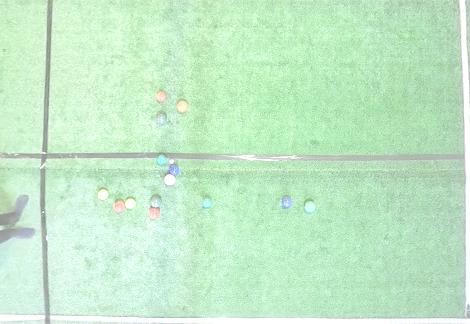blue: (281, 197, 293, 208), (170, 165, 179, 175)
green: (150, 195, 162, 207), (305, 201, 316, 213), (156, 113, 167, 124), (156, 155, 167, 165), (202, 197, 212, 208)
red: (113, 200, 125, 213), (176, 100, 188, 113), (148, 207, 160, 219), (163, 174, 176, 185), (156, 91, 167, 102)
vline: (1, 0, 53, 323), (456, 0, 469, 324)
white: (169, 159, 174, 164)
yellow: (124, 197, 136, 210), (97, 189, 109, 200)
